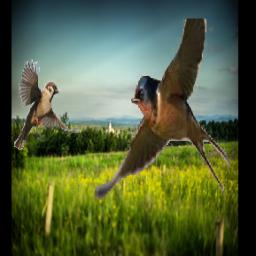Sparrow: (15, 60, 80, 151)
Swallow: (92, 19, 231, 206)
